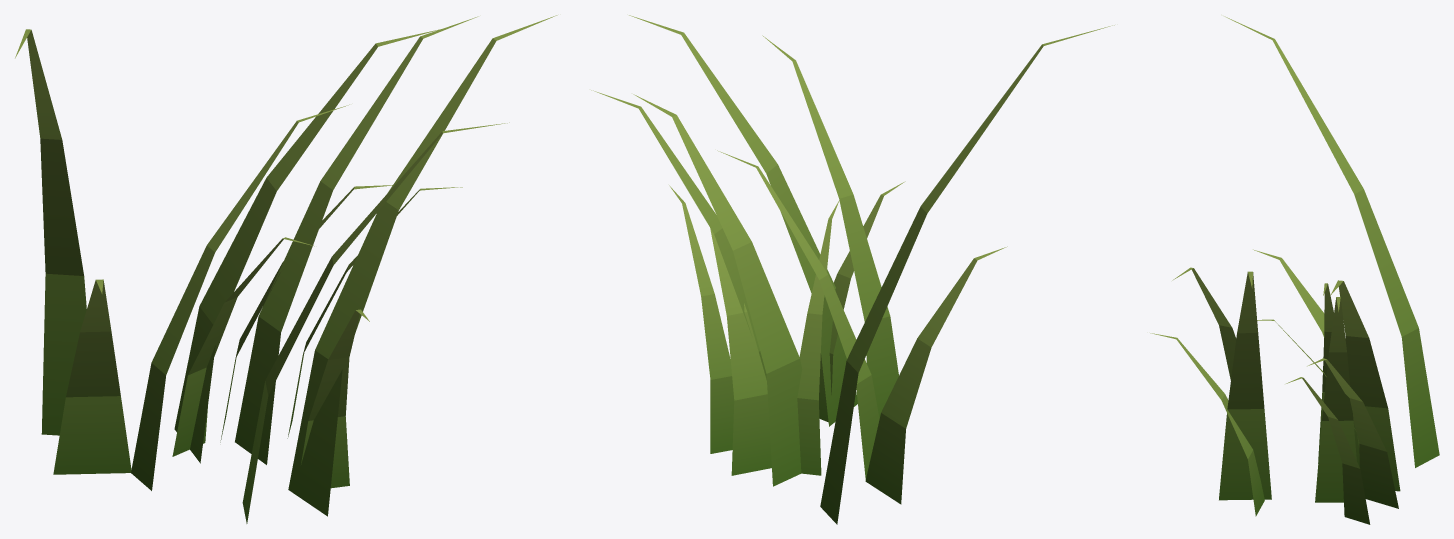
The model's file is grass.glb.
3 views of the same model, side by side, from view 1: azimuth 30°, elevation 25°; view 2: azimuth 150°, elevation 25°; view 3: azimuth 270°, elevation 25° (orthographic). The views are drawn at different scales.
Parts seen in each view (by area): view 1: grass export; view 2: grass export; view 3: grass export.
Part boxes in pixels (x1,y1,x2,y2): grass export: [15, 15, 557, 523]; grass export: [591, 15, 1114, 524]; grass export: [1150, 16, 1439, 524].
Bounding box in the file's own units: 0.7378 × 0.6598 × 0.4628.
